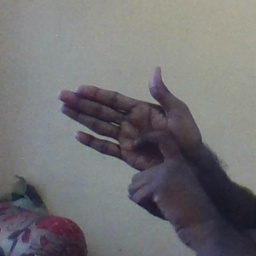R: (58, 63, 205, 217)
